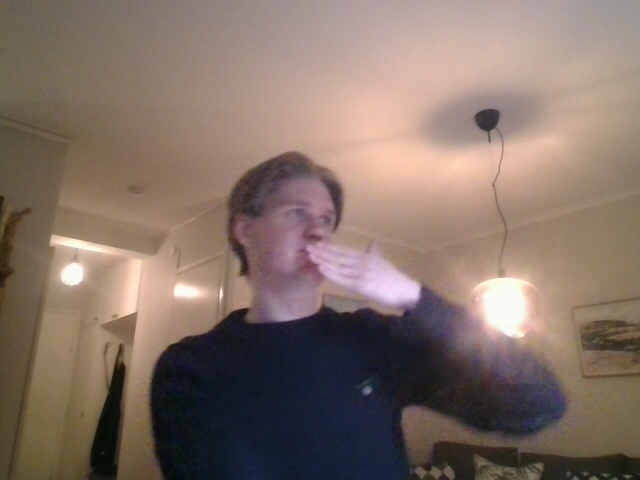ThankYou: (296, 240, 408, 309)
